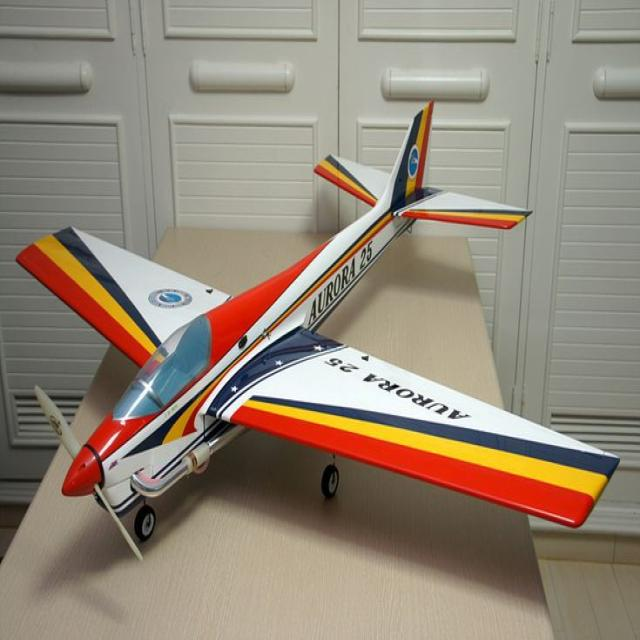iha: (11, 87, 622, 557)
